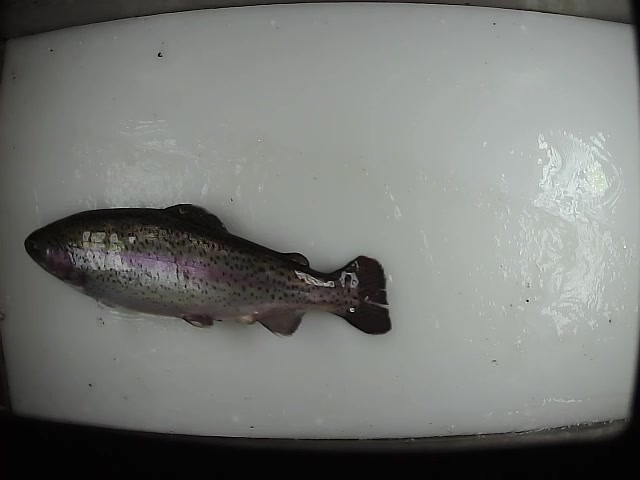fish: (22, 182, 393, 340)
